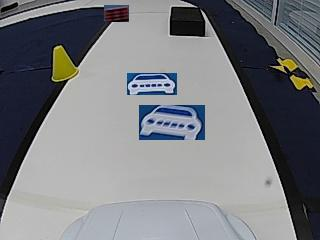block: (169, 7, 205, 36)
cone: (53, 46, 78, 81)
